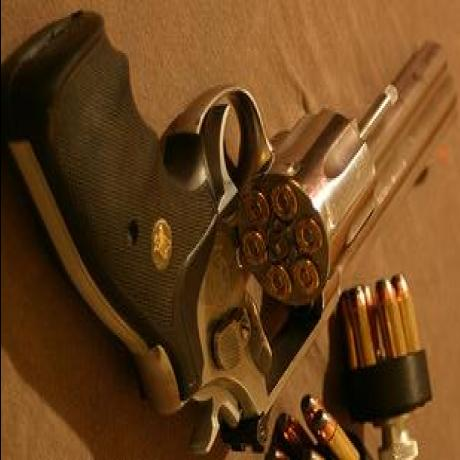weapon: (2, 17, 460, 416)
